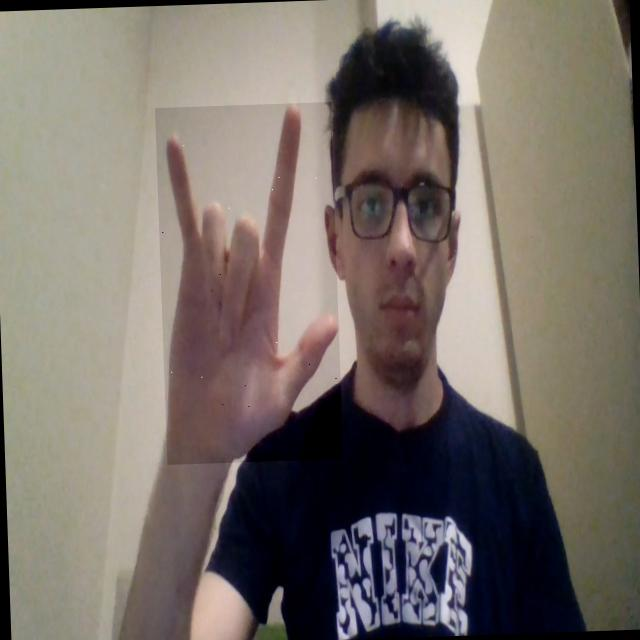iloveyou: (154, 102, 342, 464)
